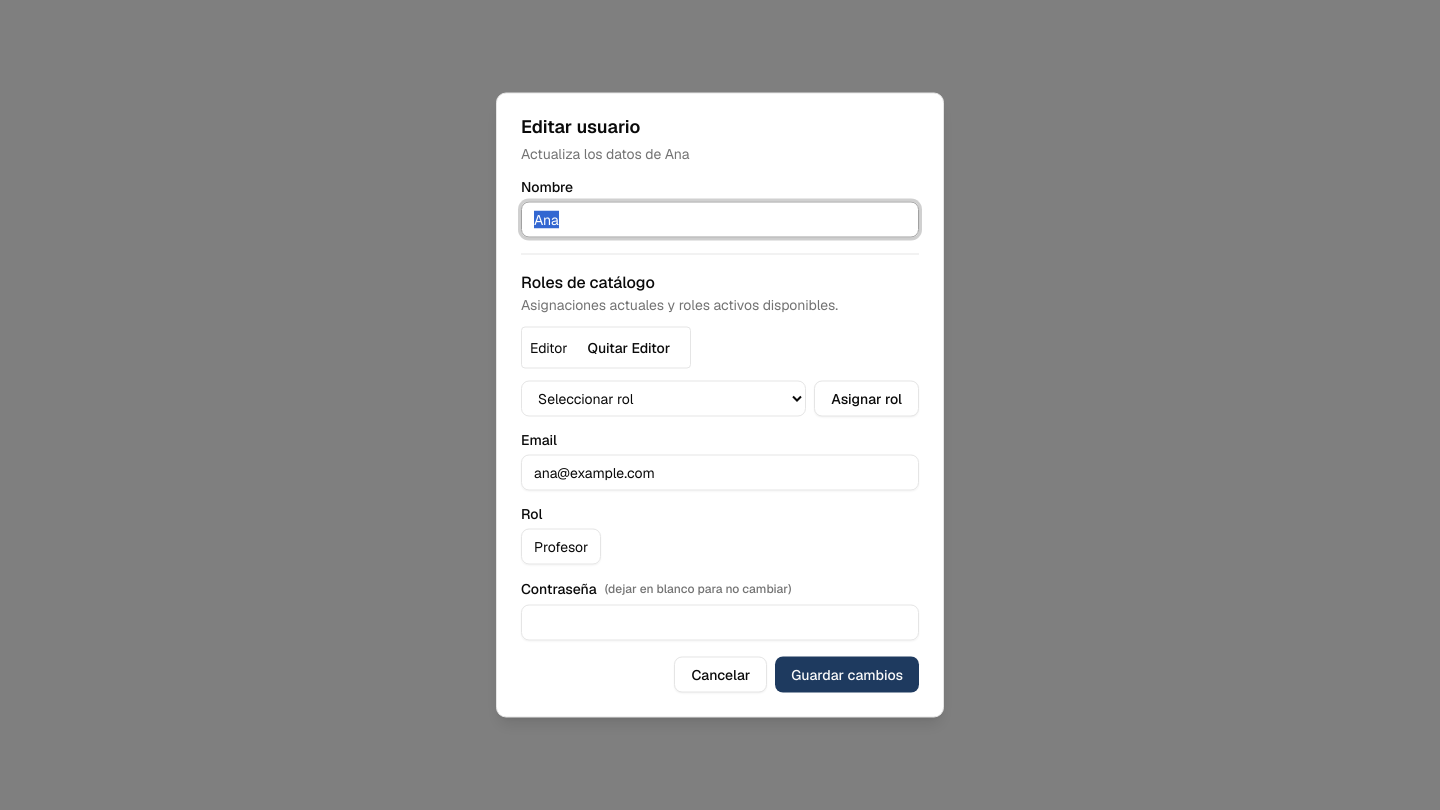
Scenario: EditUserDialog catalog assignments › shows current assignments, assigns active roles, and refreshes projections
The width and height of the screenshot is (1440, 810).
Check: the text "Editor" is shown, box x1=530 y1=338 x2=568 y2=358
Select "Reviewer" in the dropdown named "Rol de catálogo" at (664, 398), box x1=521 y1=380 x2=806 y2=416
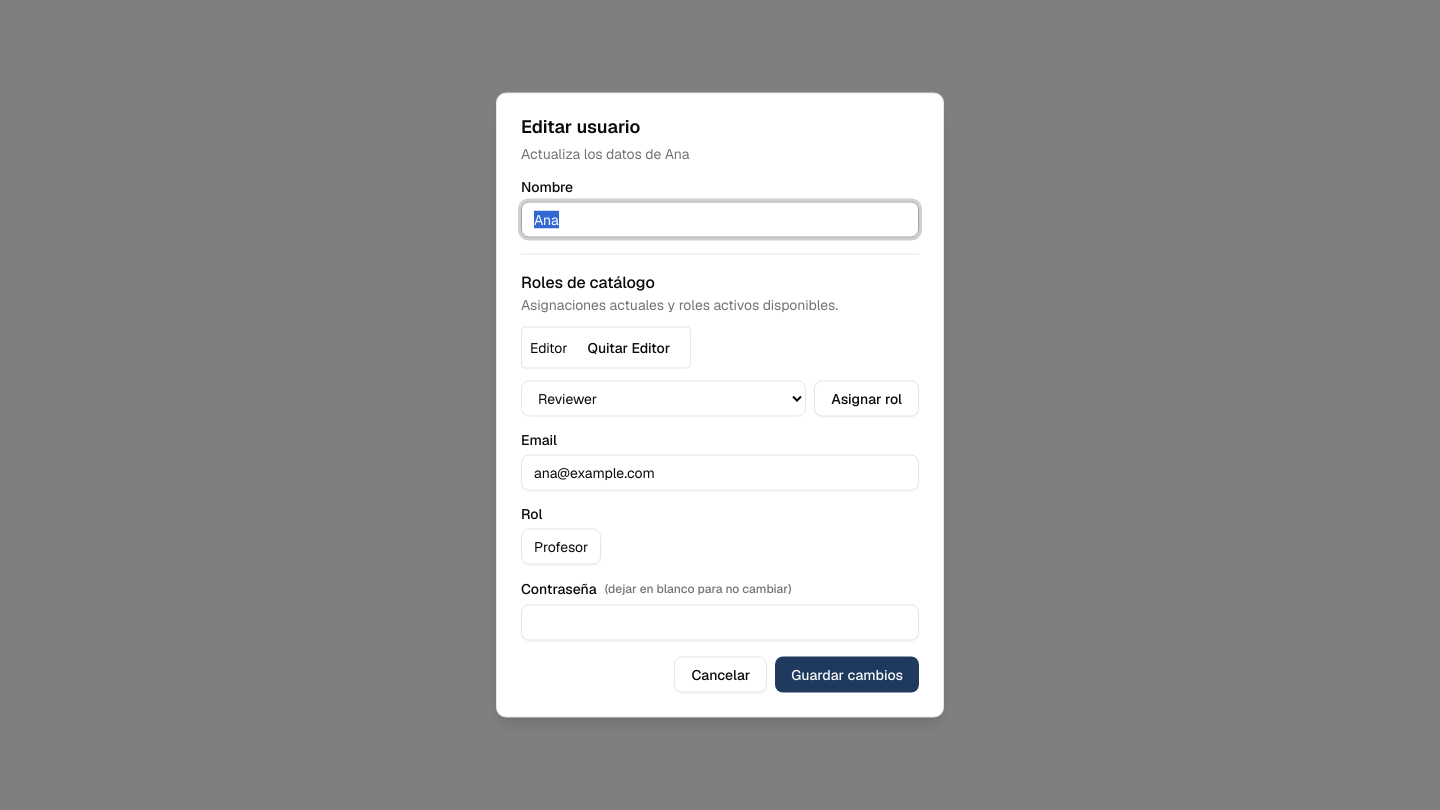
Click the button "Asignar rol" at (867, 398), box x1=814 y1=380 x2=919 y2=416
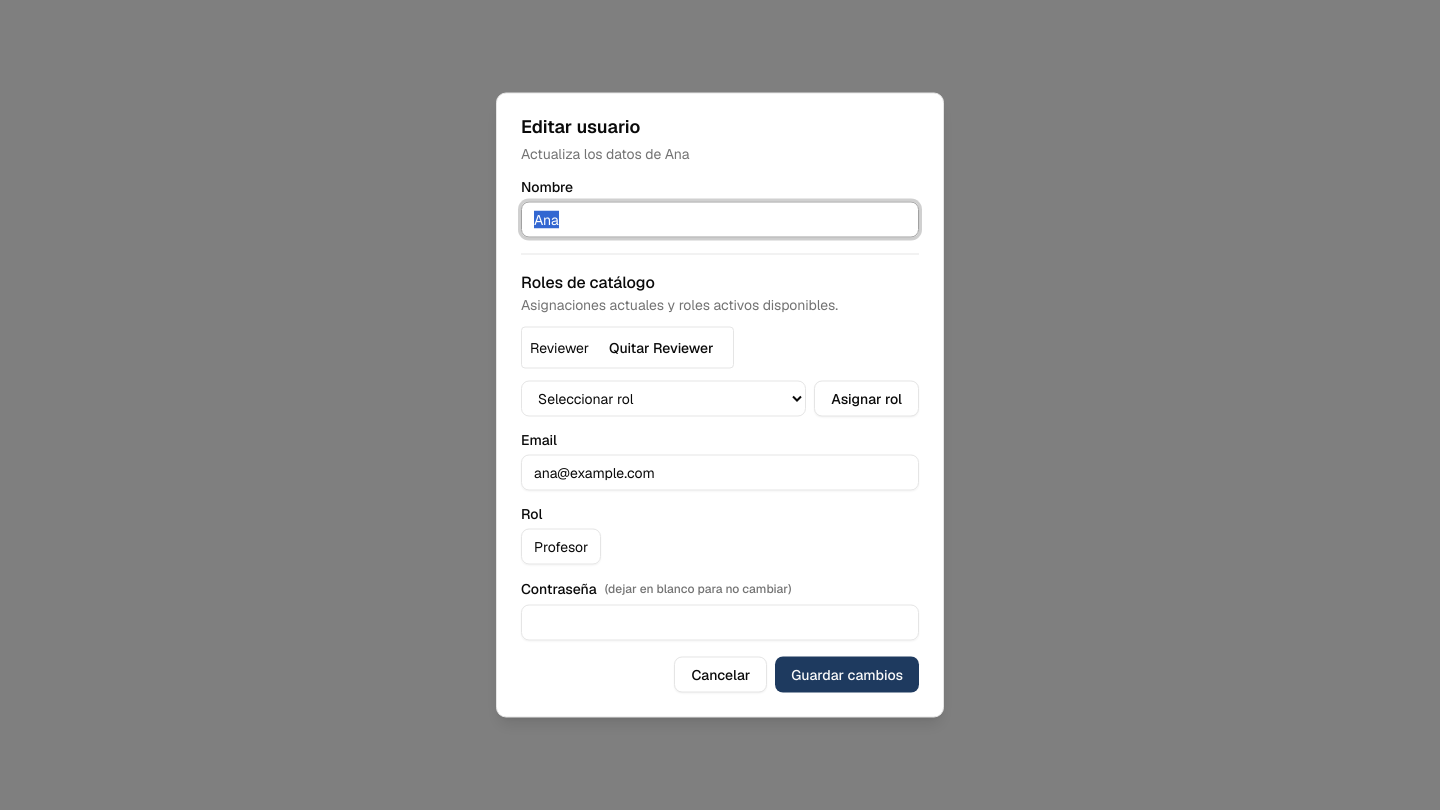
Check: the text "Reviewer" is shown, box x1=530 y1=338 x2=589 y2=358
Check: the button "Quitar Editor" is gone
